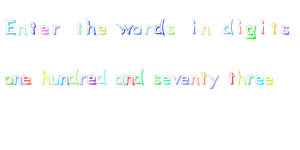E: (4, 18, 16, 36)
a: (114, 73, 125, 86)
d: (133, 66, 145, 86), (153, 17, 166, 35), (67, 66, 79, 85), (222, 18, 234, 36), (96, 66, 107, 85)
e: (39, 24, 50, 36), (86, 74, 97, 86), (179, 73, 190, 85), (21, 74, 32, 85), (97, 24, 107, 36), (254, 74, 264, 86), (161, 74, 171, 85), (264, 74, 274, 85)
g: (245, 24, 257, 39)
h: (86, 17, 96, 34), (41, 69, 51, 85), (237, 68, 246, 85)
i: (190, 18, 198, 35), (236, 19, 243, 35), (259, 18, 266, 34)
n: (59, 73, 70, 86), (16, 24, 28, 35), (12, 73, 23, 85), (125, 73, 134, 86), (201, 24, 211, 35), (190, 74, 200, 85)
o: (3, 74, 15, 85), (131, 24, 142, 35)
r: (78, 73, 87, 86), (52, 24, 60, 35), (144, 25, 152, 36), (246, 74, 254, 85)
s: (152, 73, 162, 86), (166, 25, 176, 36), (281, 23, 290, 35)
t: (29, 20, 37, 35), (228, 70, 236, 85), (270, 21, 278, 34), (201, 70, 207, 86), (75, 21, 82, 34)
u: (50, 74, 60, 86)
v: (171, 73, 181, 85)
w: (115, 23, 133, 35)
y: (207, 74, 220, 89)
